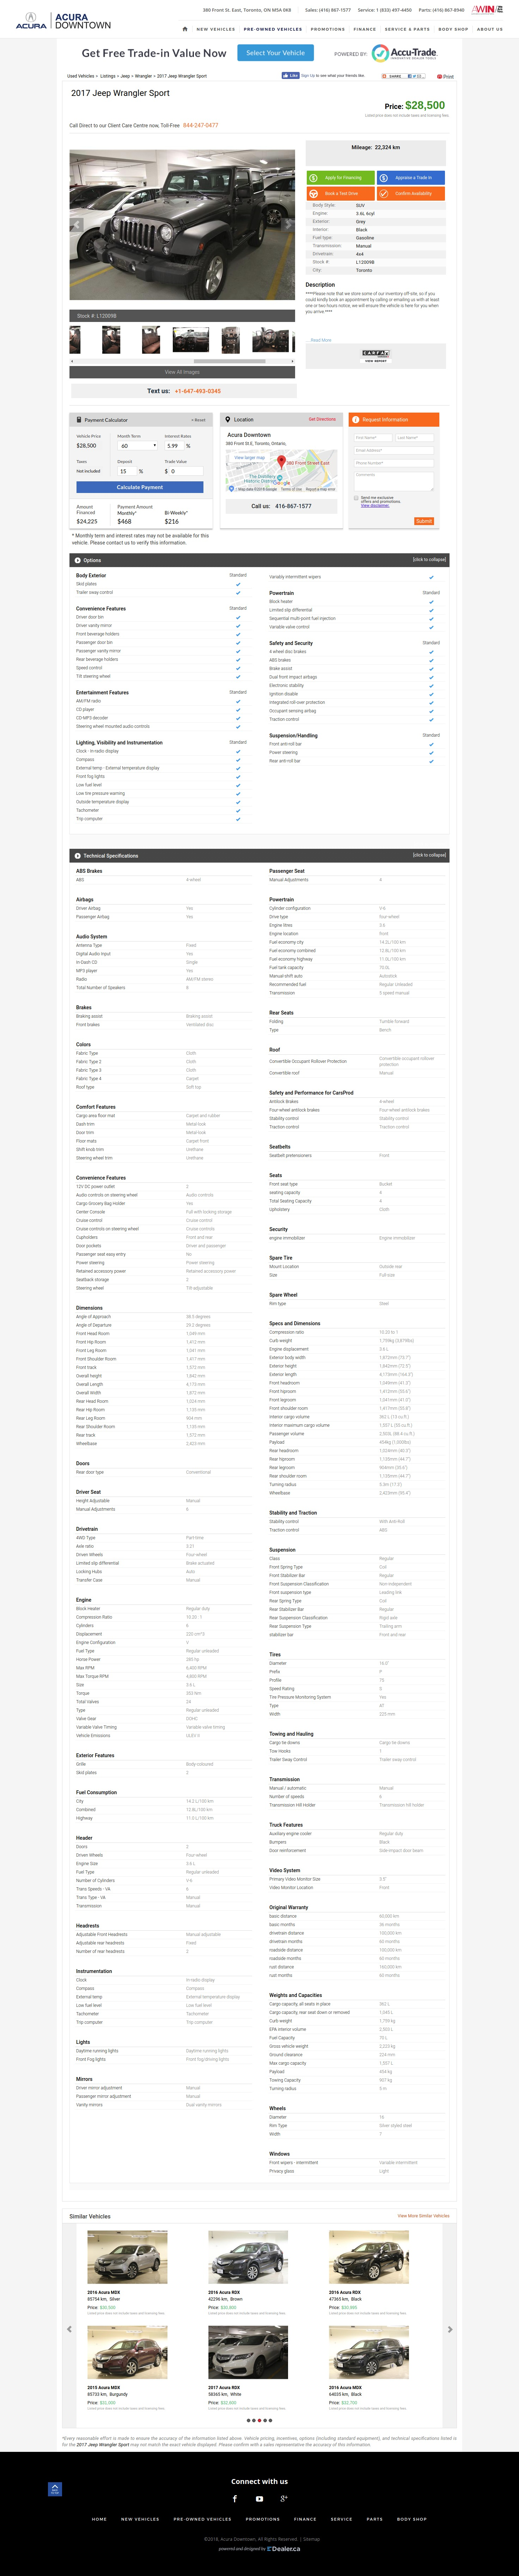car: (289, 360, 296, 365)
